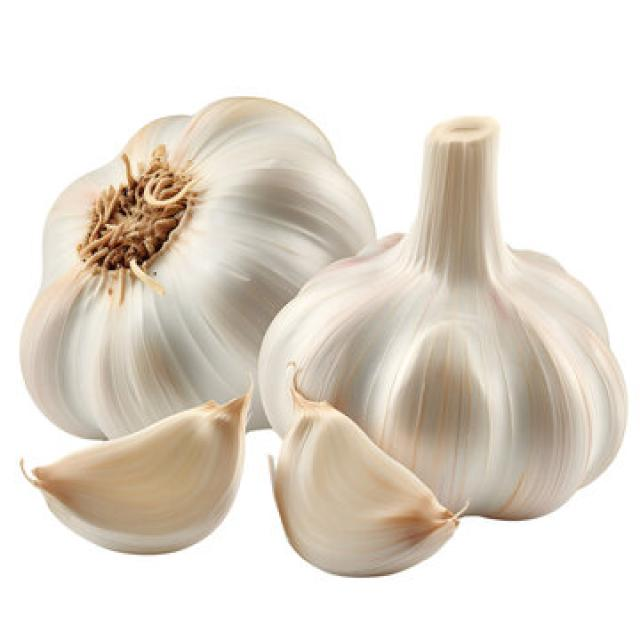Garlic: (256, 112, 628, 523), (18, 94, 377, 441), (265, 359, 467, 578), (18, 373, 254, 555)
